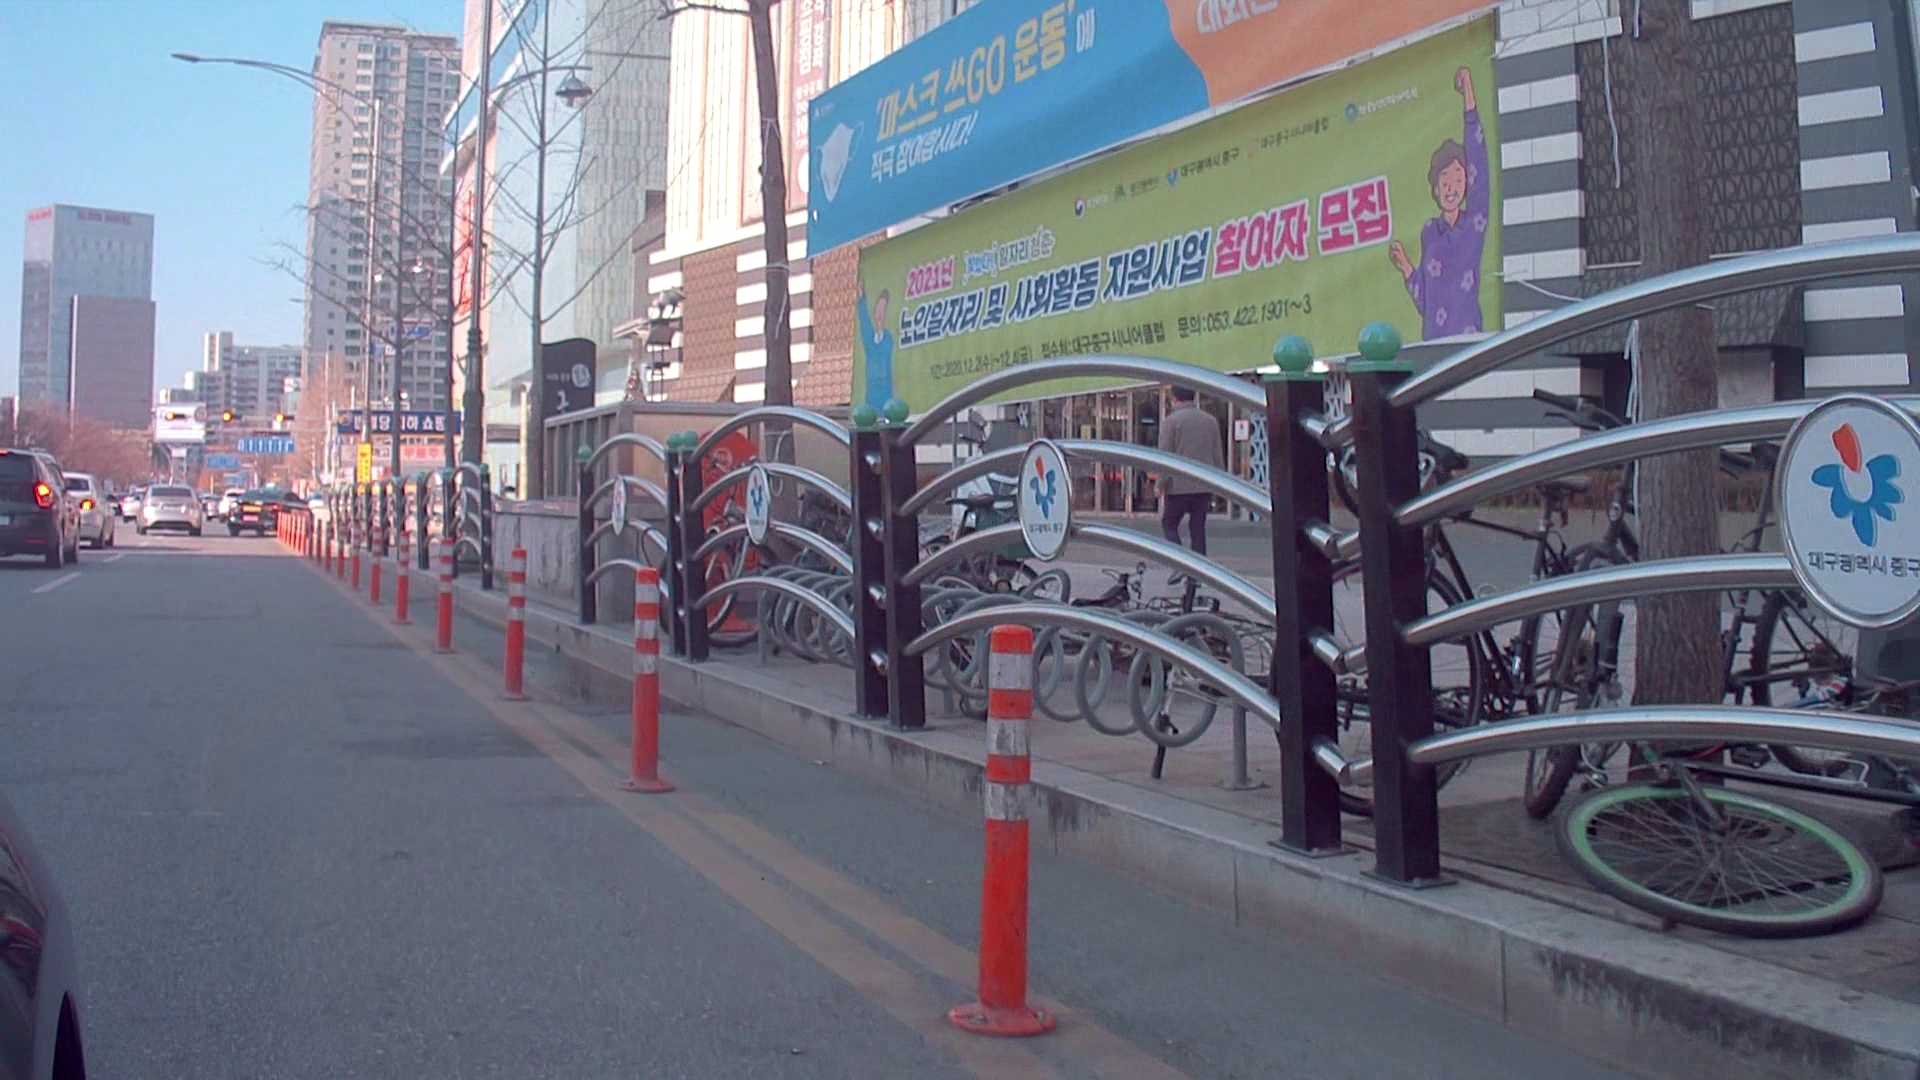trafficLight: (161, 409, 305, 425)
